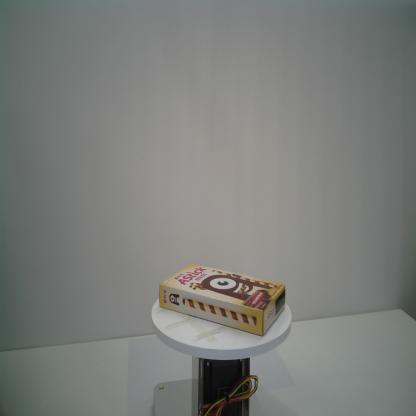Dessert: (158, 262, 287, 338)
